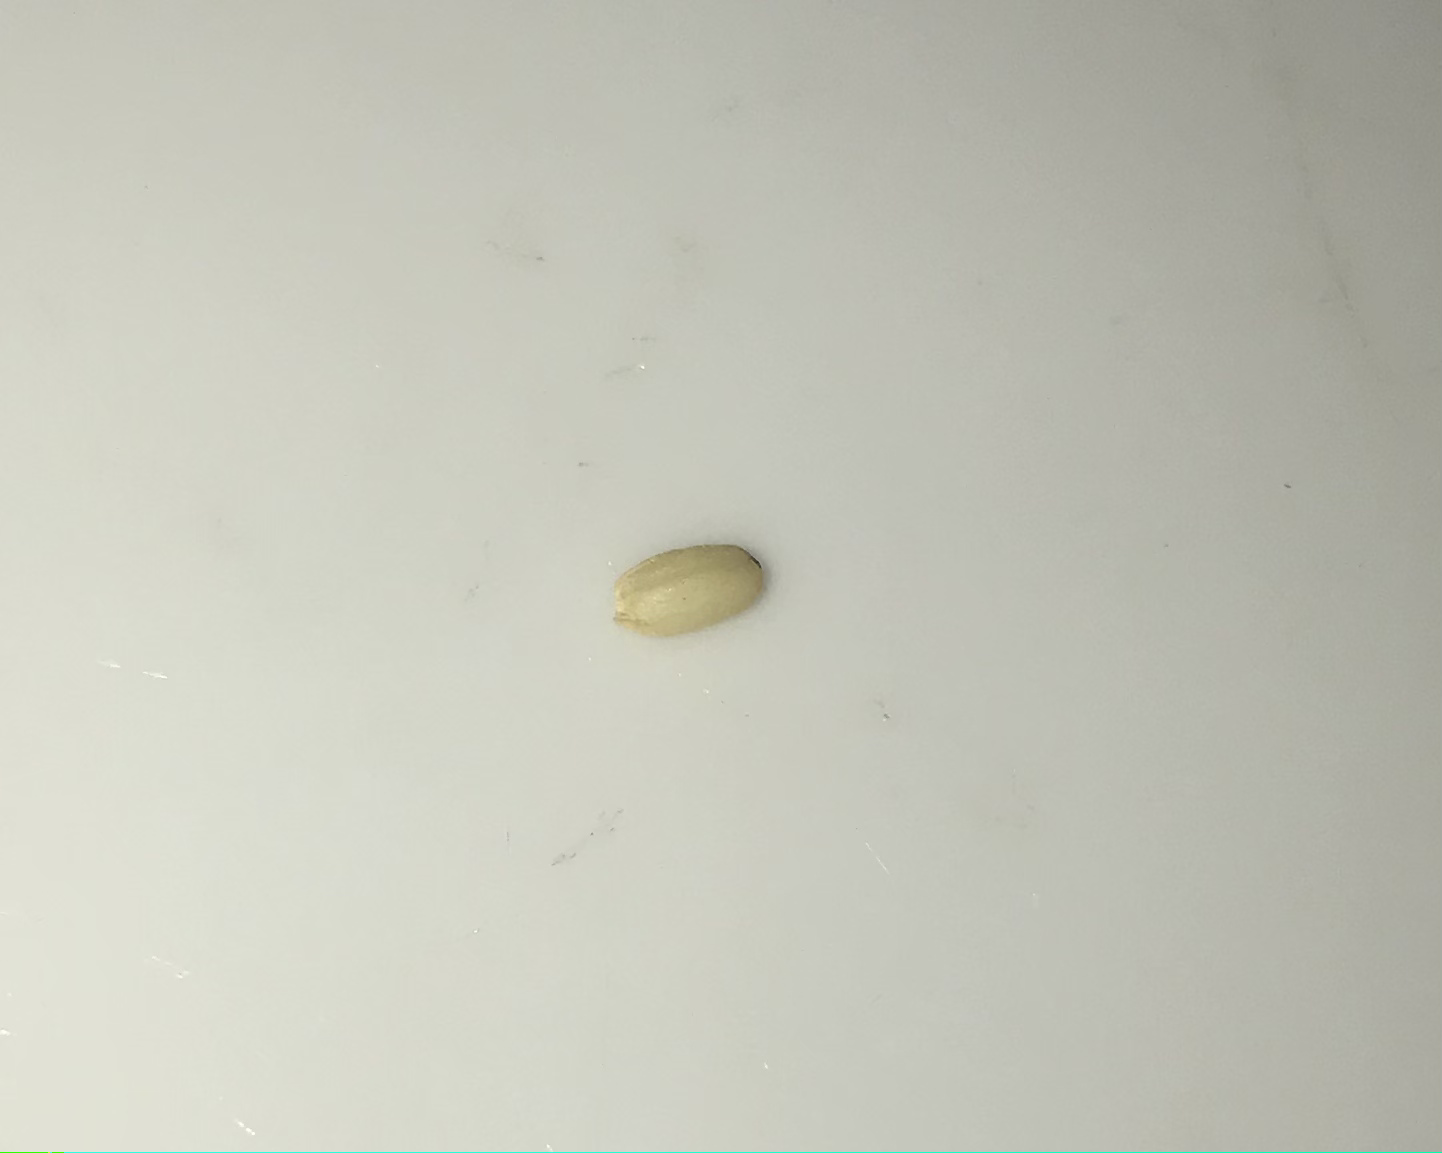Gao Lut Bac: (615, 534, 770, 655)
